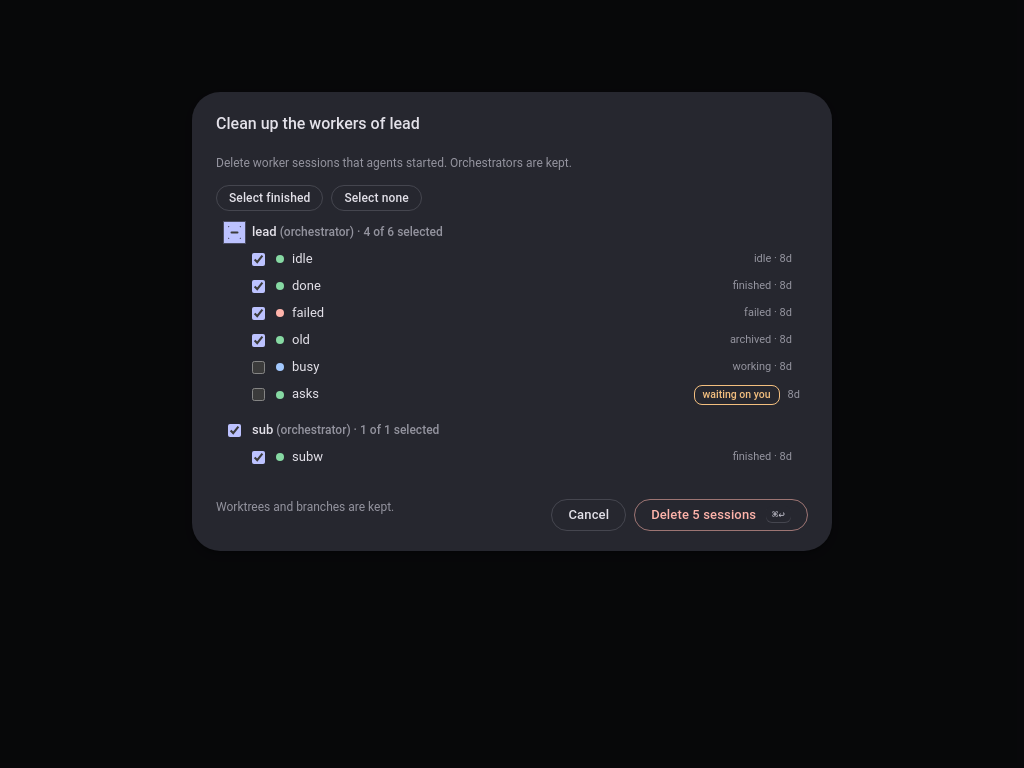
Test case: says why when the daemon cannot be reached, and deletes nothing here
Step 1. Click the button "Delete 5 sessions ⌘↩" → coordinates (721, 515), box [634,499,808,531]
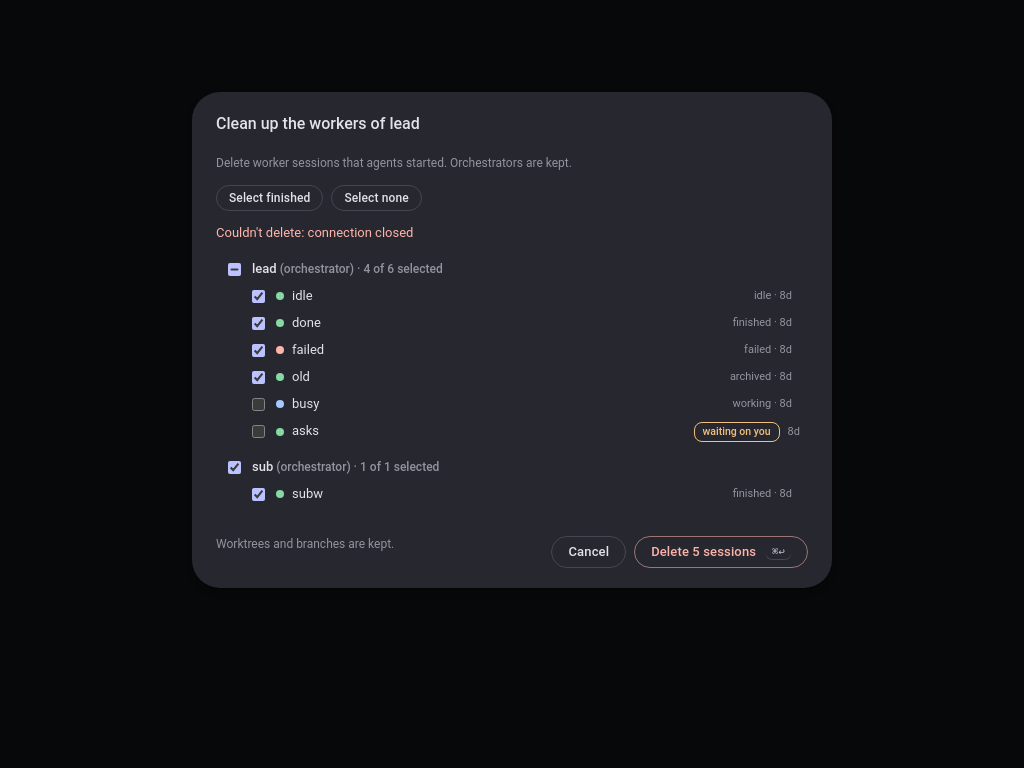
expect the text "Couldn't delete: connection closed" is shown: met, box [216,225,413,240]
